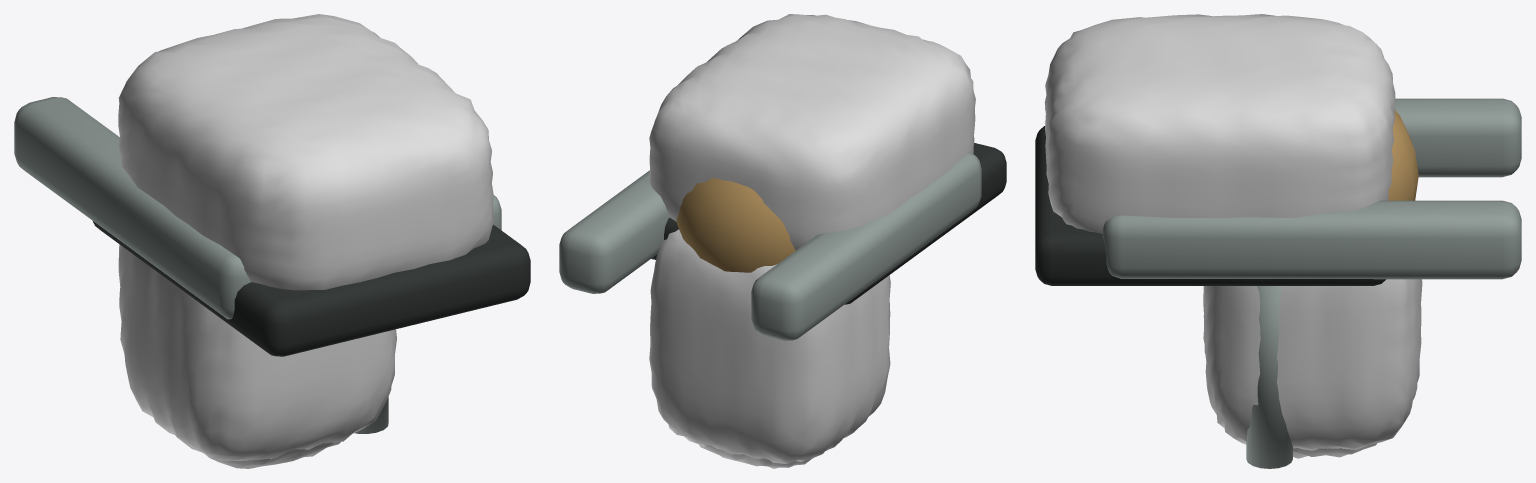
Rendered from deadeye-leg-1.glb.
3 views of the same model, side by side, from view 1: azimuth 30°, elevation 25°; view 2: azimuth 150°, elevation 25°; view 3: azimuth 270°, elevation 25° (orthographic). The views are drawn at different scales.
Parts seen in each view (by area): view 1: foot_clay, upper_clay, foot_rubber, foot_steel, lower_clay; view 2: foot_clay, upper_clay, foot_steel, upper_brass, foot_rubber, lower_clay; view 3: foot_clay, foot_steel, upper_clay, foot_rubber, lower_steel, upper_brass, lower_clay.
Part boxes in pixels (x1,y1,x2,y2): foot_clay: [118, 14, 493, 290]; upper_clay: [118, 244, 396, 461]; foot_rubber: [93, 221, 530, 356]; foot_steel: [14, 97, 501, 319]; lower_clay: [207, 442, 340, 468]; foot_clay: [649, 14, 975, 250]; upper_clay: [649, 229, 890, 463]; foot_steel: [559, 152, 981, 340]; upper_brass: [676, 178, 795, 272]; foot_rubber: [651, 143, 1006, 304]; lower_clay: [699, 444, 826, 468]; foot_clay: [1044, 14, 1395, 233]; foot_steel: [1102, 98, 1521, 279]; upper_clay: [1203, 279, 1422, 450]; foot_rubber: [1035, 126, 1385, 285]; lower_steel: [1246, 286, 1292, 468]; upper_brass: [1388, 110, 1418, 200]; lower_clay: [1293, 443, 1377, 458].
Bounding box in the file's own units: 0.43 × 0.6042 × 0.685.
